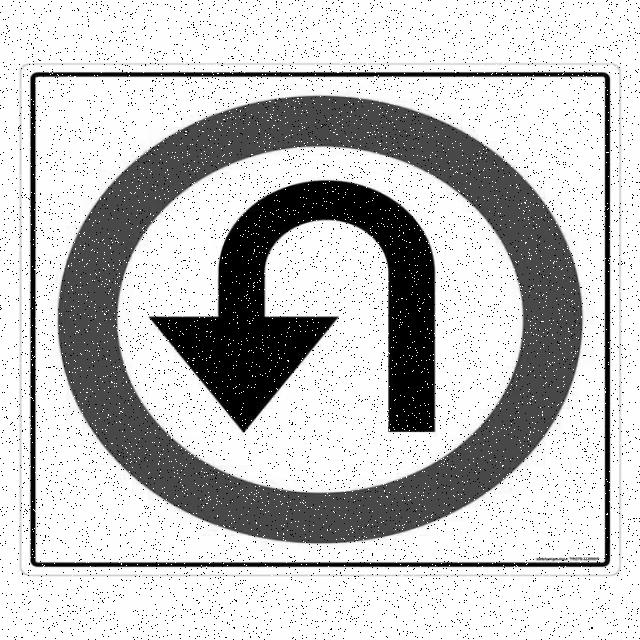Uturn: (58, 95, 582, 548)
